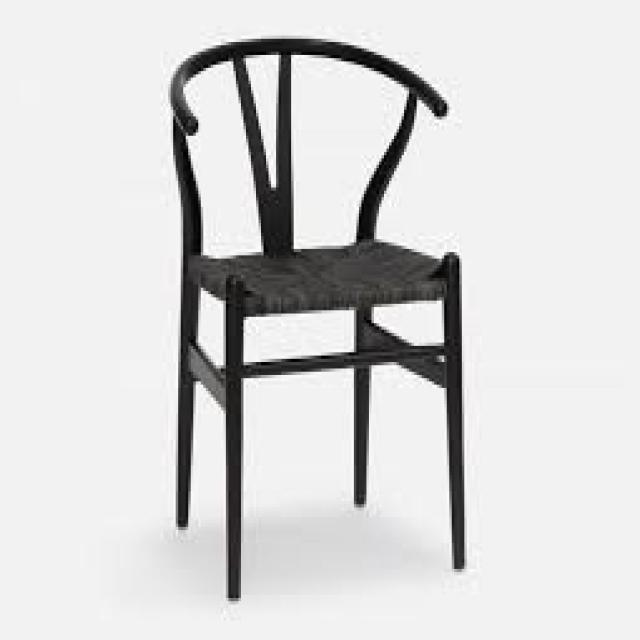chair: (77, 8, 586, 640)
